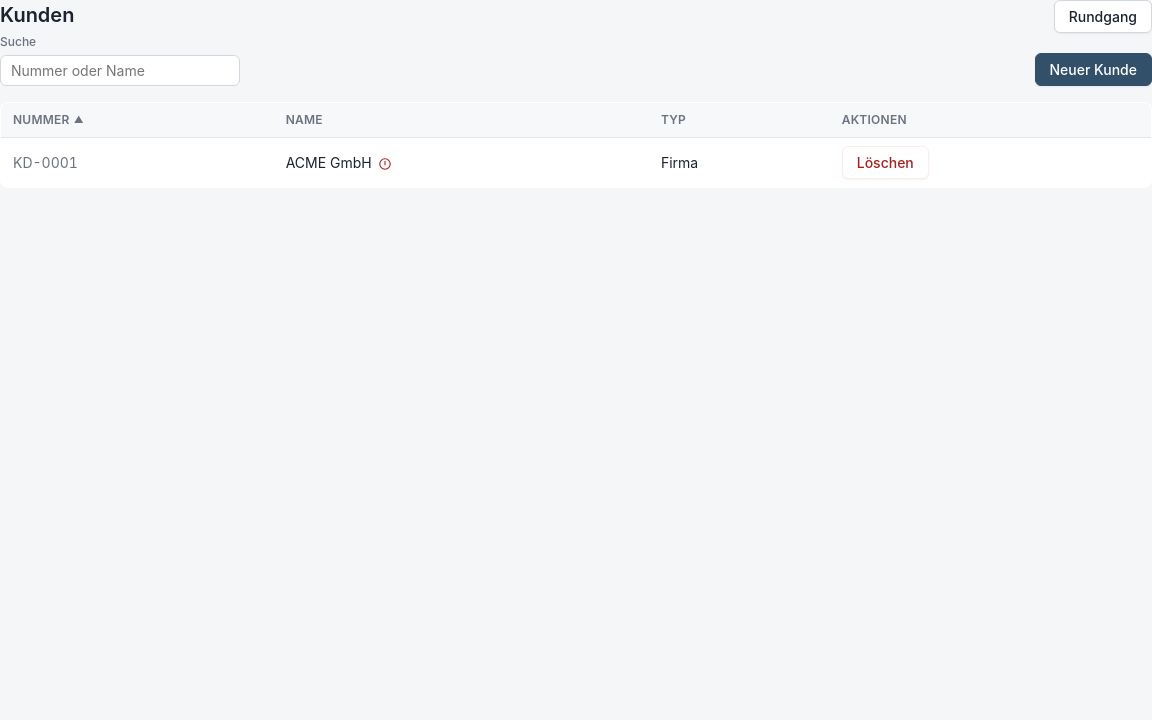
Test: Kunden › startet den Rundgang über den Knopf im Seitenkopf
The width and height of the screenshot is (1152, 720).
Check: the text "ACME GmbH" is shown, box 274,138 -> 649,188
Click the button "Rundgang" at point(1103, 16), box 1054,0 -> 1151,33
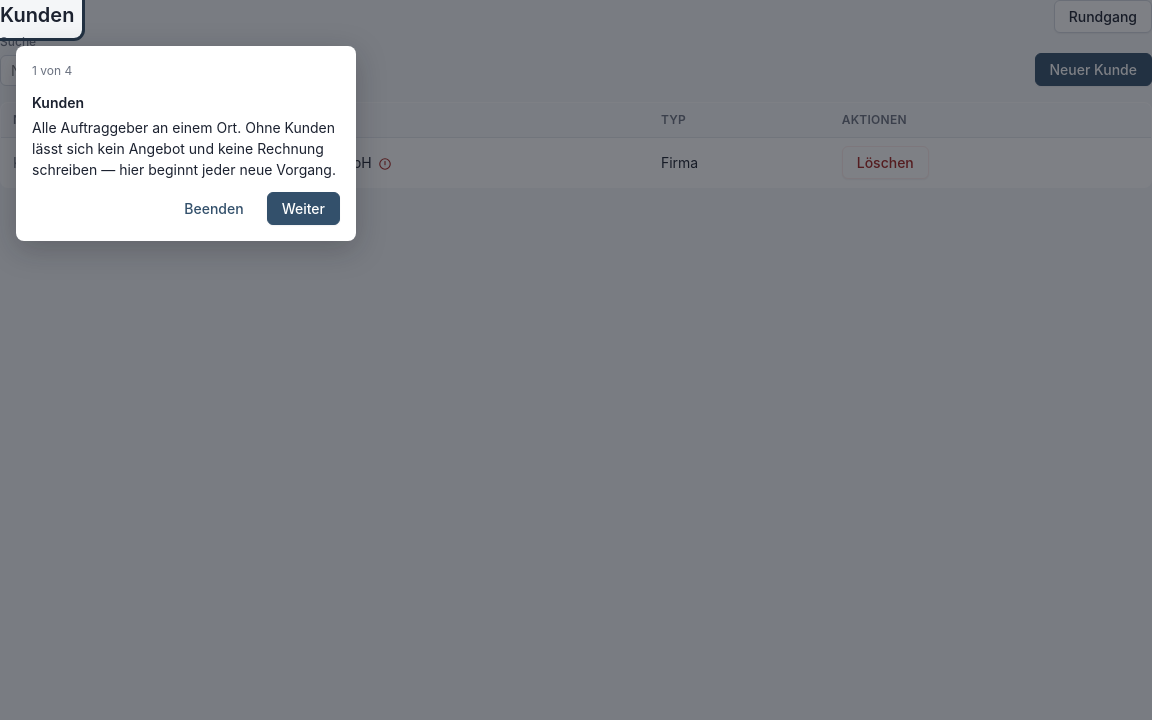
Check: the text "1 von 4" is shown, box 32,63 -> 72,78
Click the button "Beenden" at point(214, 208), box 169,192 -> 259,225
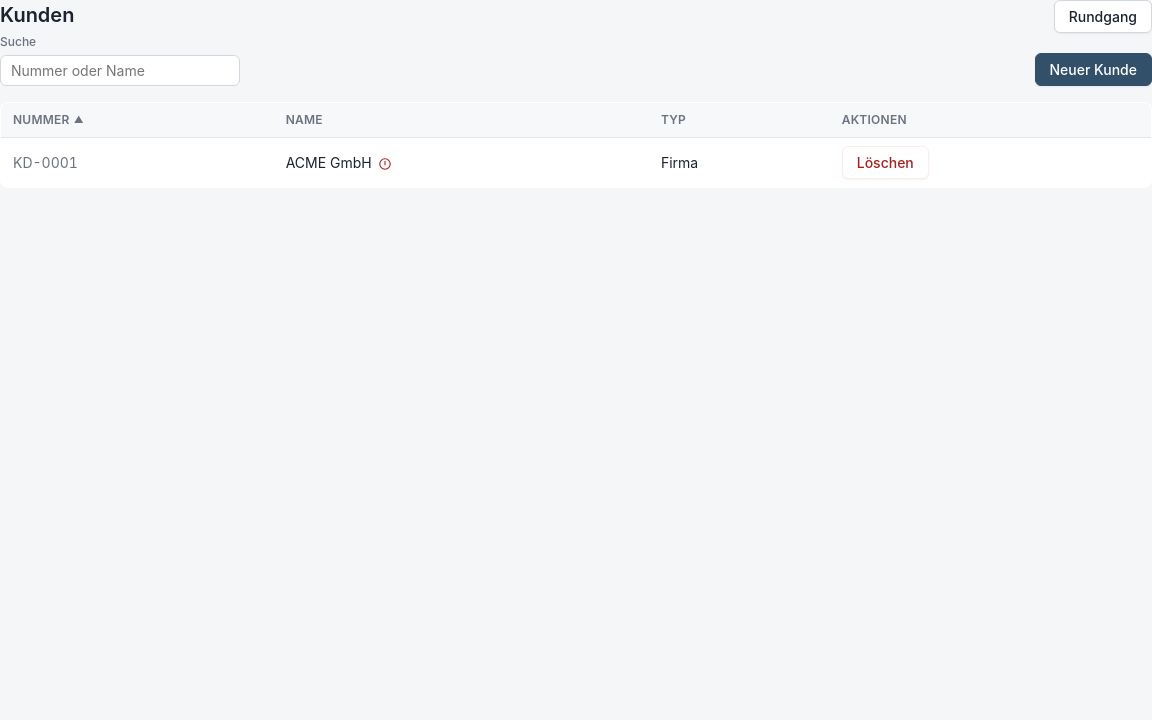
Check: the text "1 von 4" is gone
